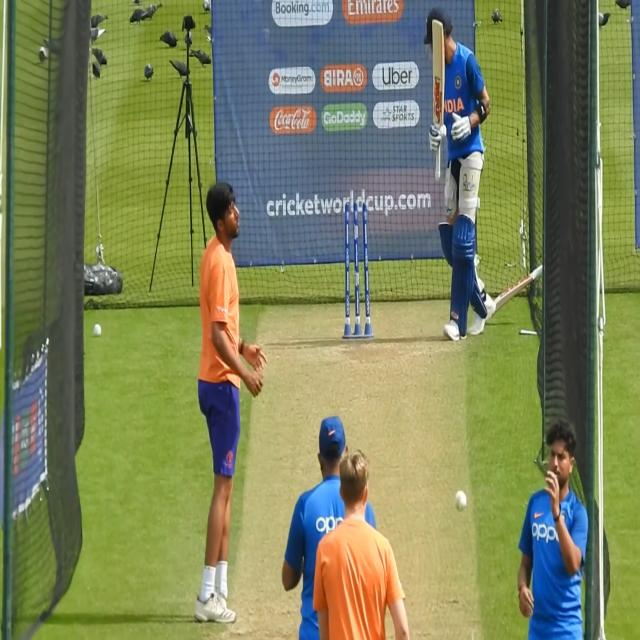ball: (91, 322, 102, 338)
stump: (344, 199, 372, 340)
